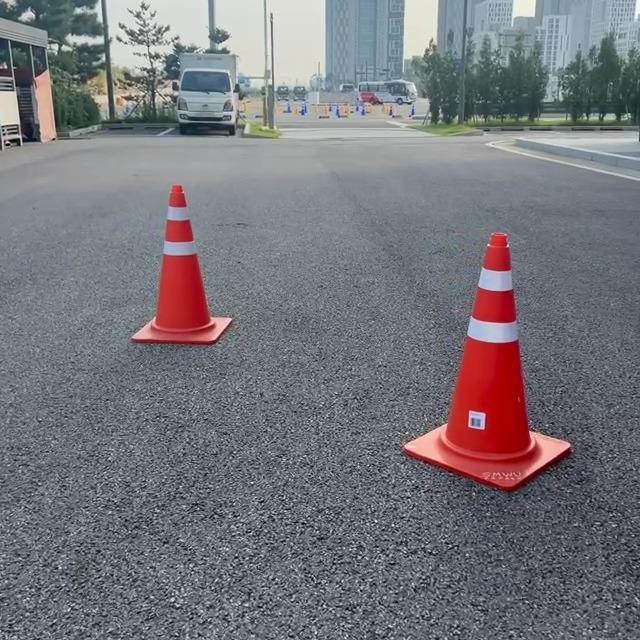fallen_object: (376, 193, 566, 461), (135, 169, 277, 328)
